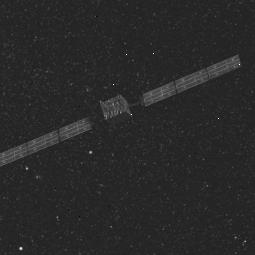smart_1: (42, 61, 188, 149)
